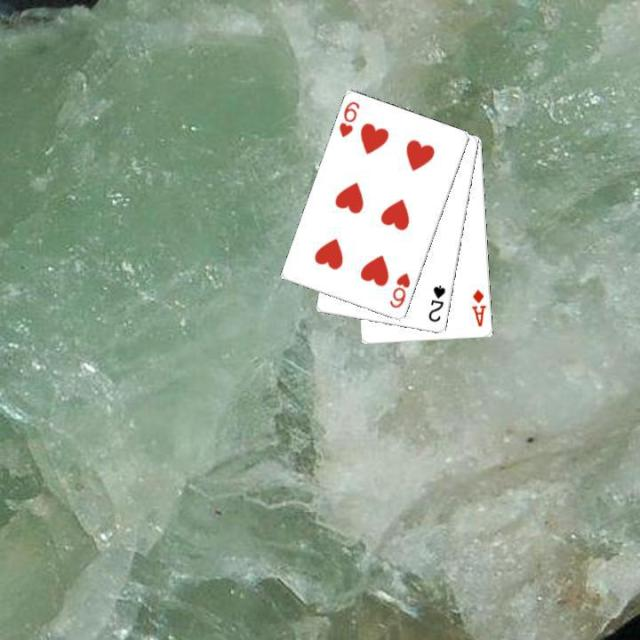2S: (425, 281, 447, 324)
6H: (335, 98, 362, 140), (386, 270, 412, 310)
AD: (468, 286, 488, 328)
